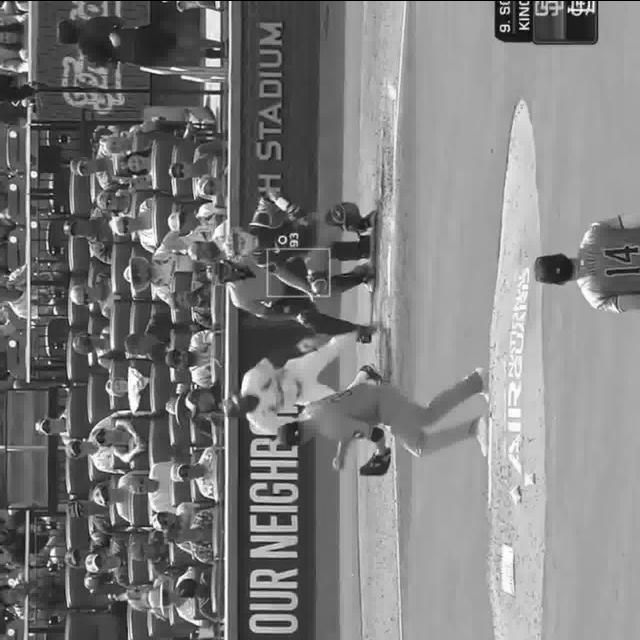base: (386, 245, 396, 297)
baseball_glove: (362, 446, 389, 476)
shoe: (470, 367, 492, 402), (474, 415, 488, 455), (364, 362, 386, 382), (364, 260, 374, 294), (358, 324, 373, 344), (366, 207, 376, 224)
